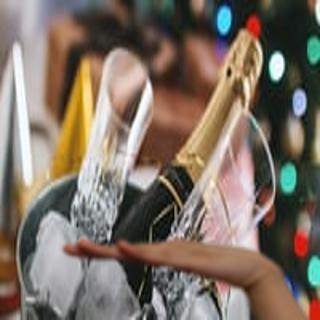WAIT: (55, 226, 275, 289)
